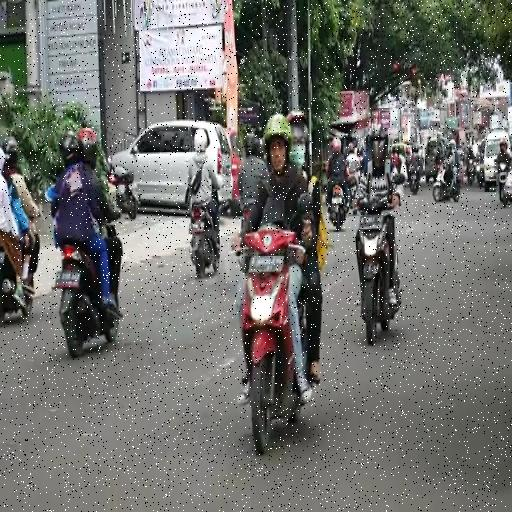Helmet: (266, 118, 292, 176), (74, 122, 102, 170), (364, 123, 392, 168), (60, 129, 80, 167), (196, 128, 210, 155)
Motor: (237, 226, 322, 445), (34, 229, 134, 350), (348, 206, 410, 338), (186, 193, 226, 283)
